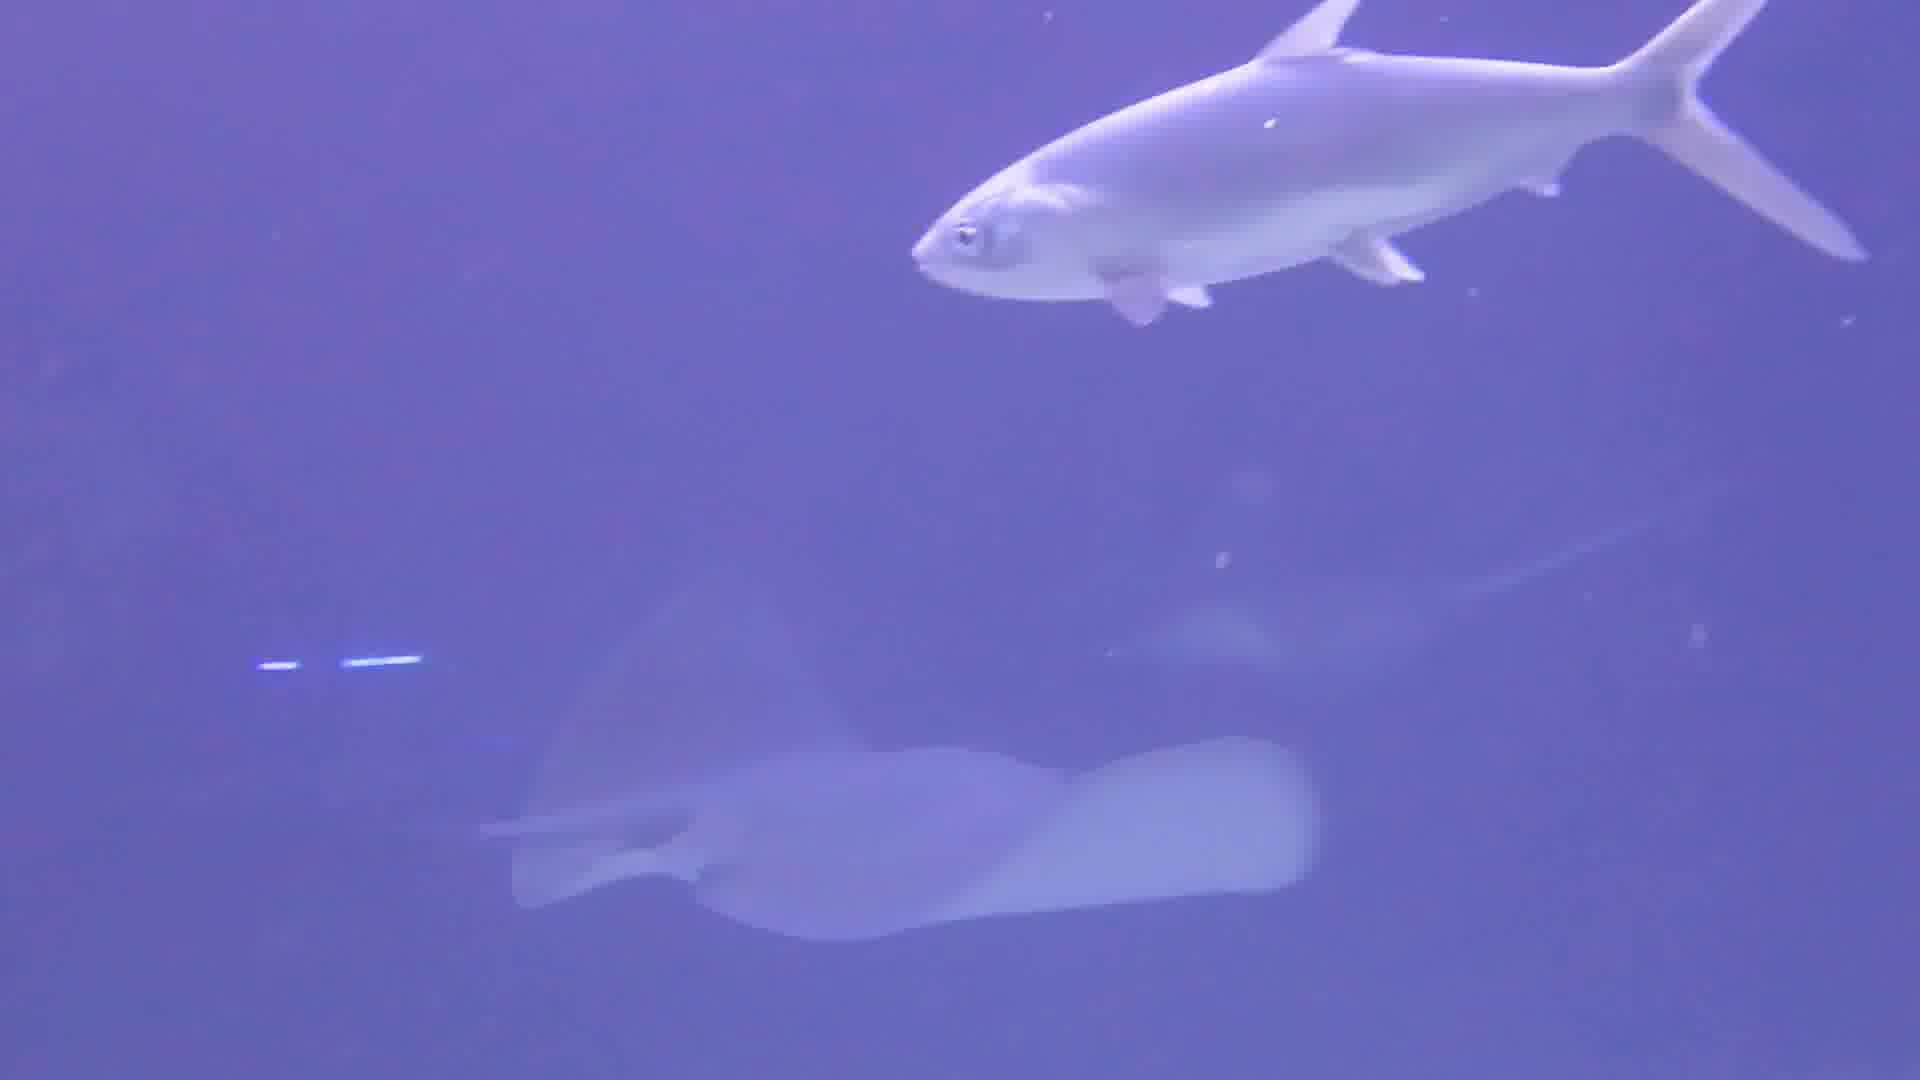Dasyatis akajei: (406, 535, 1416, 1006)
